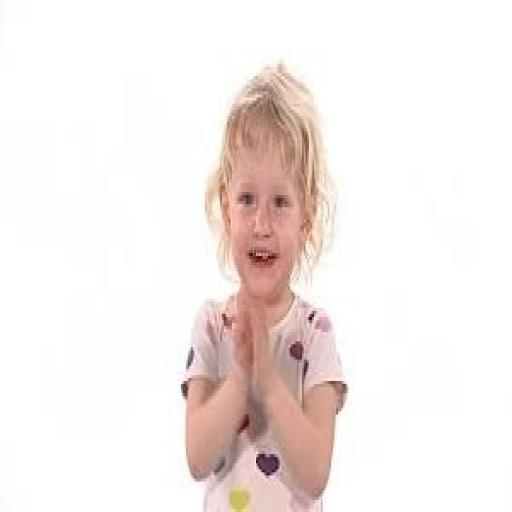clapping: (179, 58, 348, 509)
